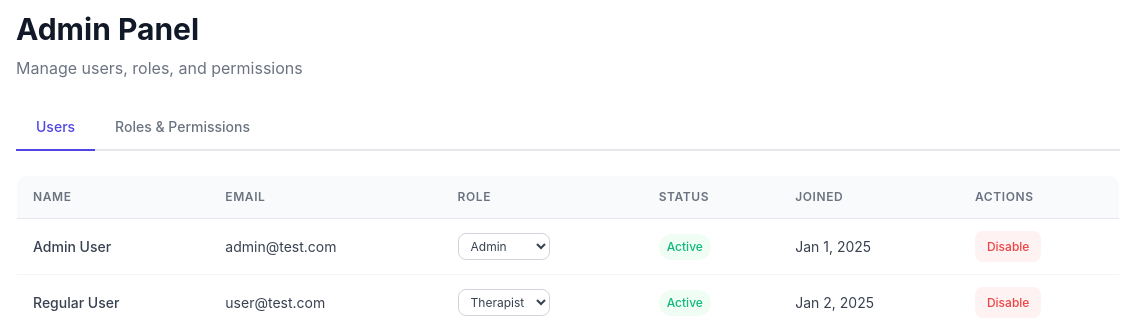
Test: AdminView › toggles a user enabled state
This screenshot has width=1137, height=335.
Click the button "Disable" in the row of "Admin User" at {"x": 1008, "y": 246}, box [975,231,1041,262]
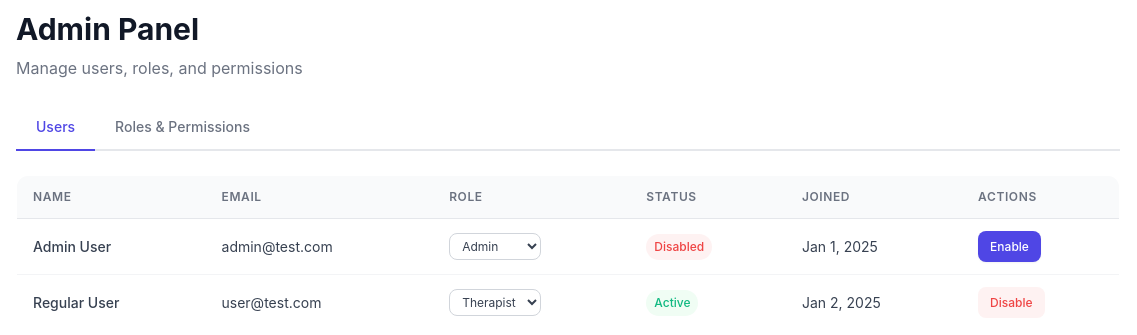
Result: the text with class "status-badge" reads "Disabled" at [654,238,704,254]
